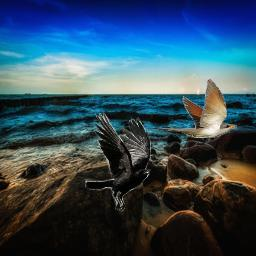Crow: (85, 113, 152, 213)
Cuckoo: (152, 79, 237, 138)
